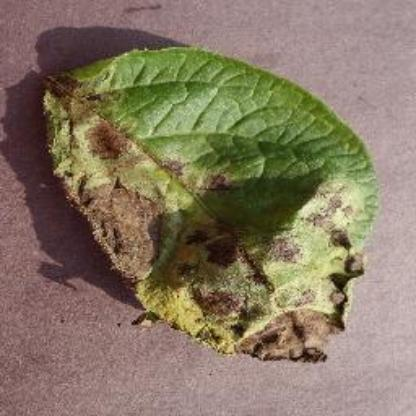Late-Blight: (37, 44, 382, 380)
